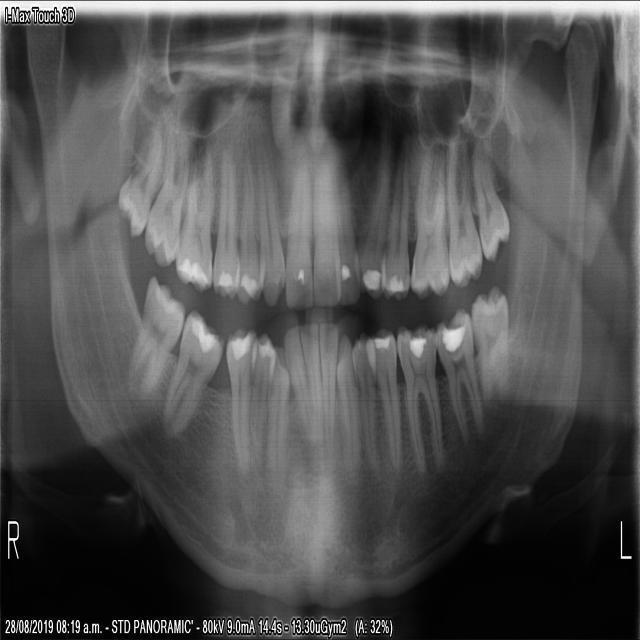LCD: (335, 327, 361, 483)
LID: (319, 318, 338, 472)
LIU: (311, 151, 341, 308), (333, 146, 360, 309)
LMD: (395, 319, 446, 477), (436, 302, 484, 447), (469, 279, 509, 403)
LMU: (408, 144, 449, 300), (445, 128, 483, 290), (470, 121, 510, 262)
LPMD: (372, 324, 401, 477), (354, 325, 381, 483)
LPMU: (360, 136, 394, 300), (383, 130, 410, 304)
RCD: (265, 340, 288, 499)
RCU: (250, 118, 283, 311)
RID: (282, 321, 317, 477), (297, 317, 324, 476)
RIU: (282, 148, 314, 311)
RMD: (157, 305, 221, 437), (123, 269, 185, 402)
RMU: (141, 121, 187, 270), (171, 132, 213, 294), (114, 110, 163, 240)
RPMD: (222, 322, 256, 493), (249, 326, 270, 491)
RPMU: (210, 120, 236, 302), (234, 118, 259, 307)
